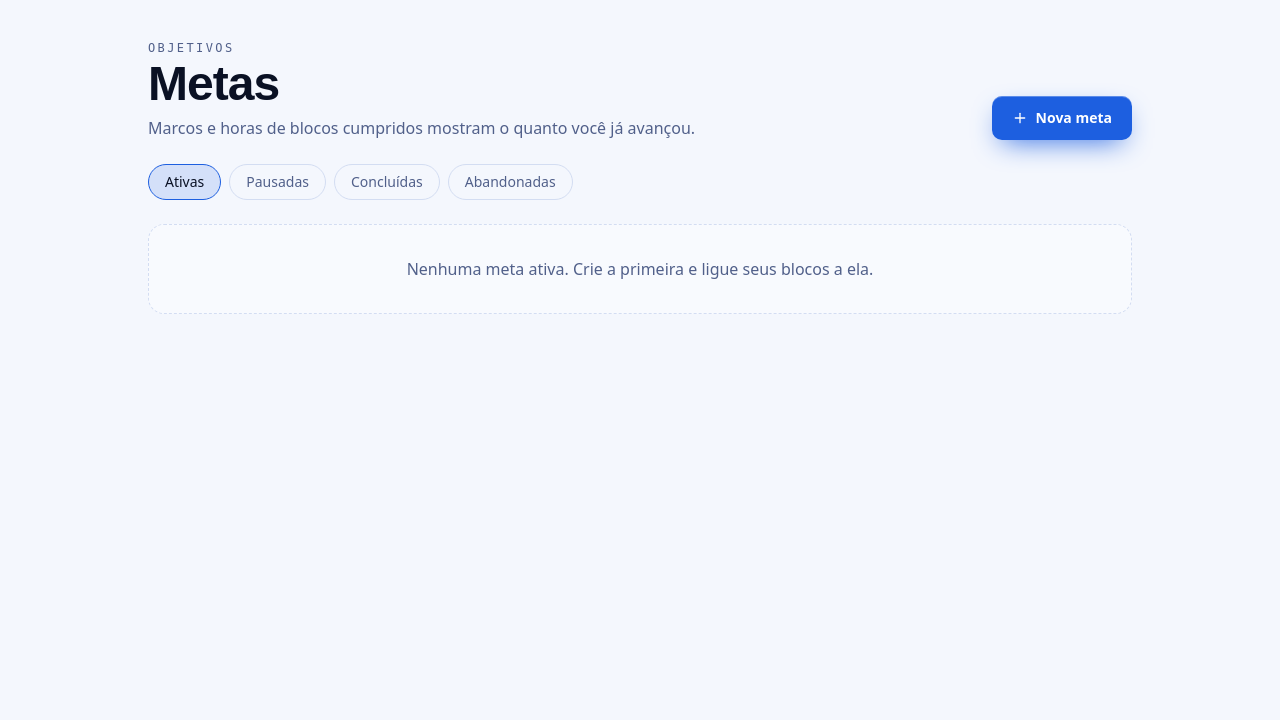
Test: GoalsPage › criar meta › valor-alvo zero é recusado no formulário
The width and height of the screenshot is (1280, 720).
Expected: the text "Nenhuma meta ativa" is shown, [407,258,873,280]
Click the button "Nova meta": (1062, 118) [992,96,1132,140]
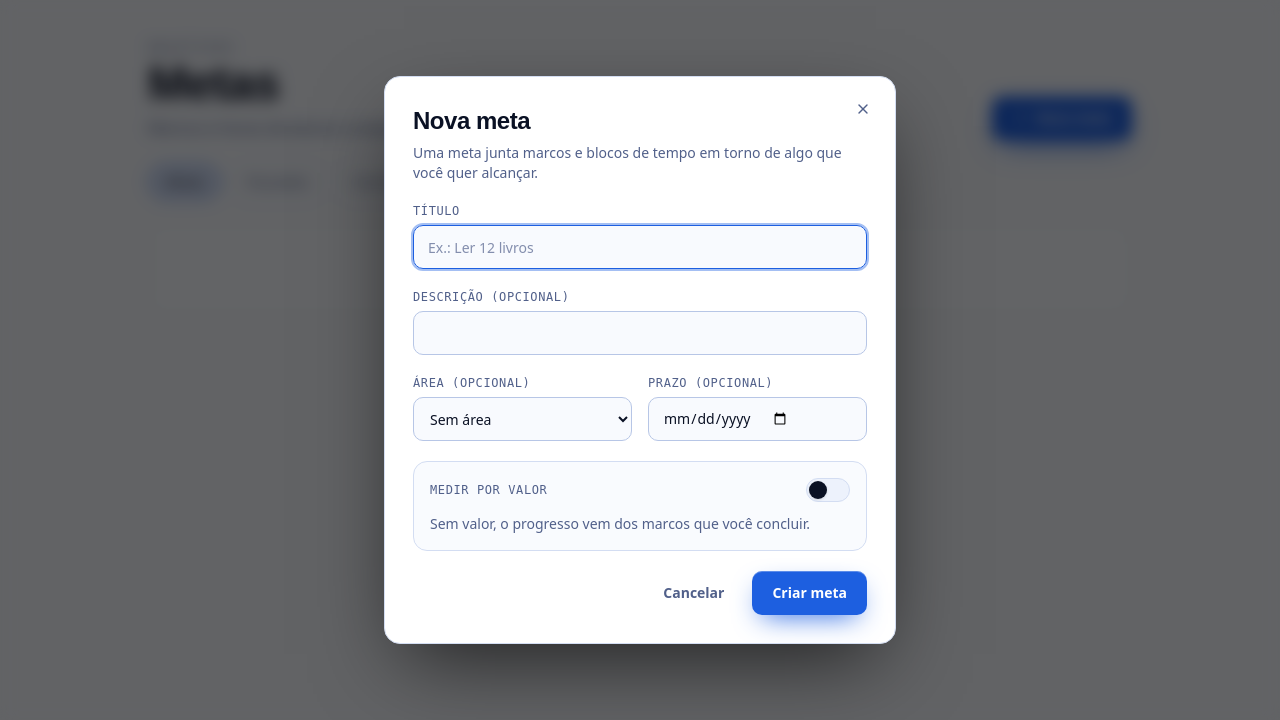
In the field labelled "Título": (640, 247) [413,225,867,269], type "Meta"
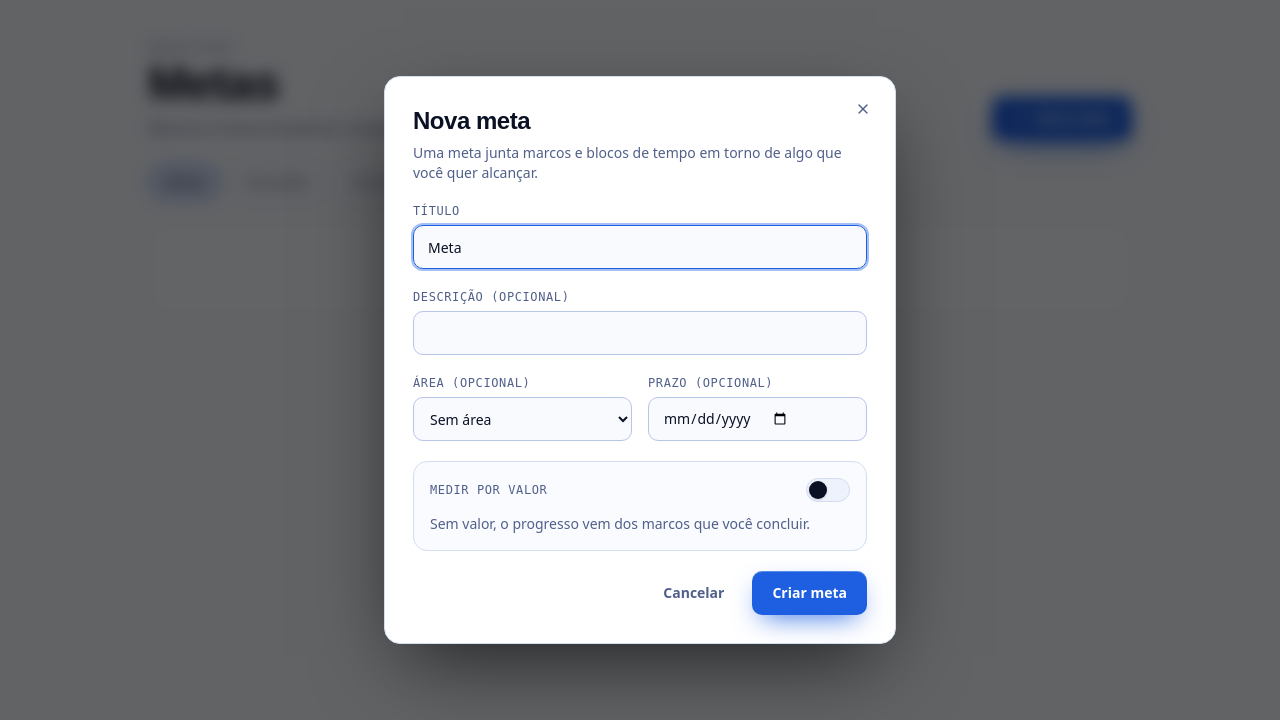
Click the switch named "Medir por valor": (828, 490) [806,478,850,502]
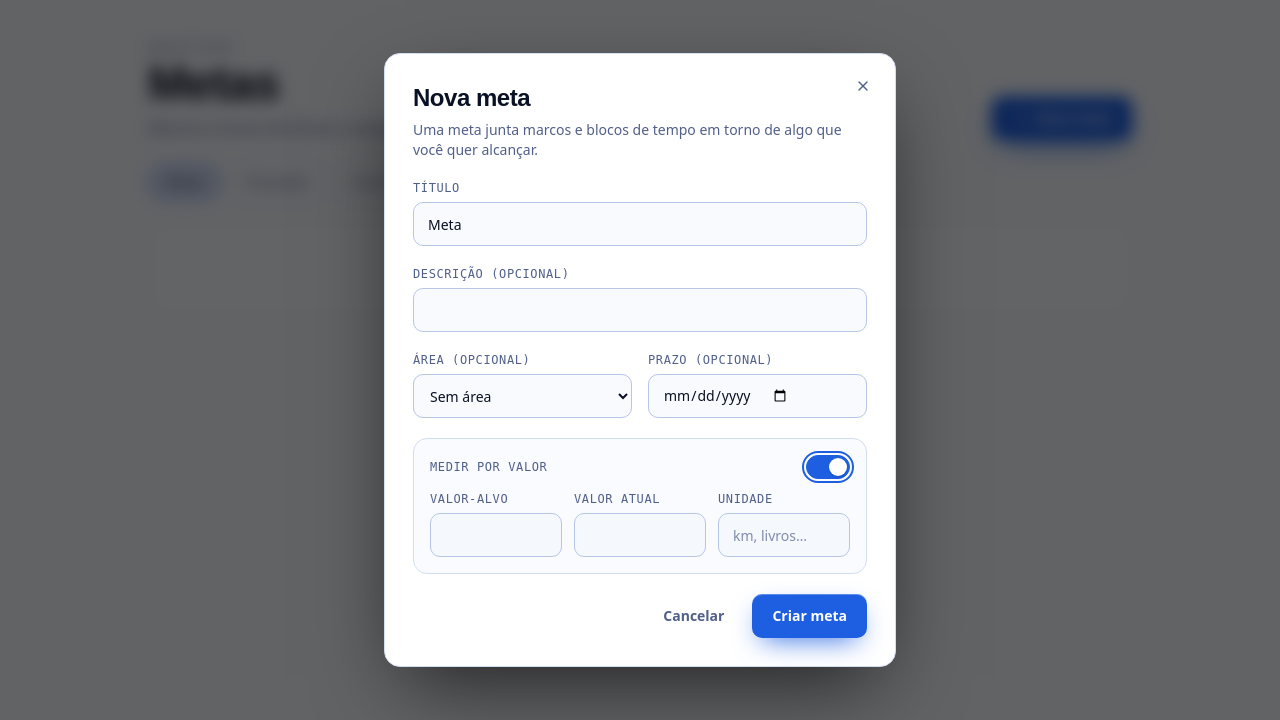
In the number field labelled "Valor-alvo": (496, 535) [430,513,562,557], type "0"
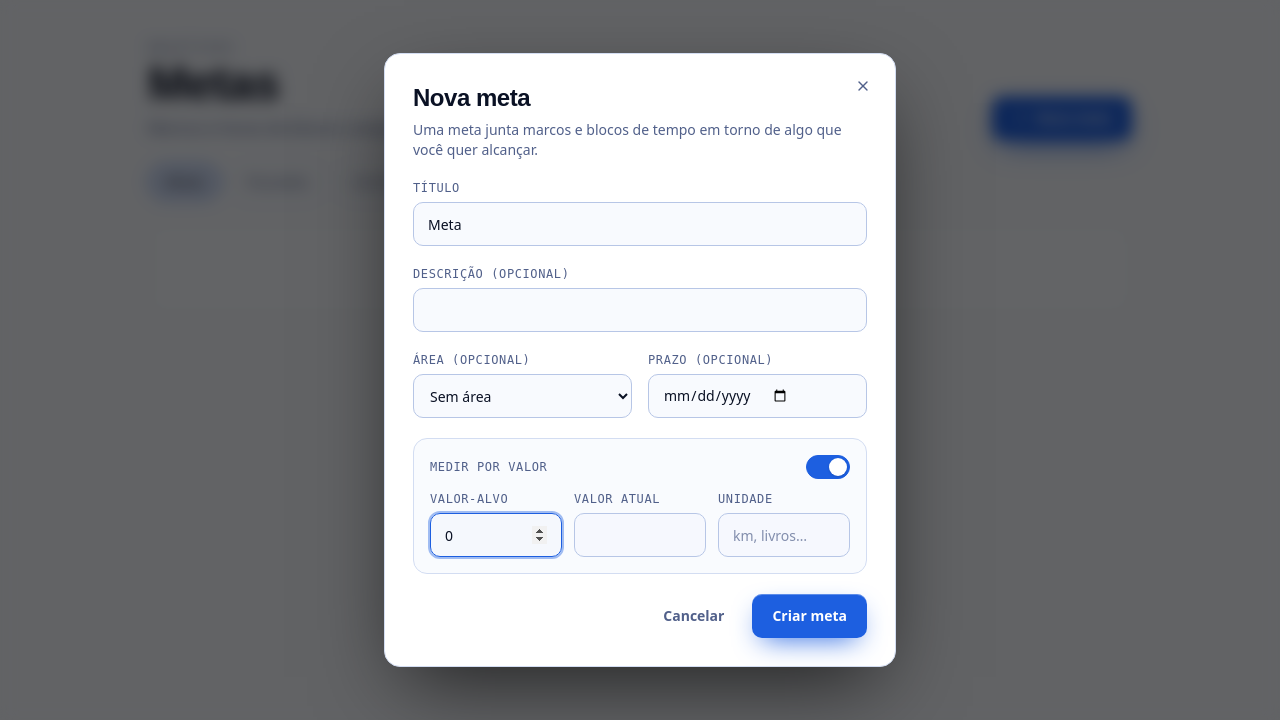
Click the button "Criar meta": (810, 616) [752,594,867,638]
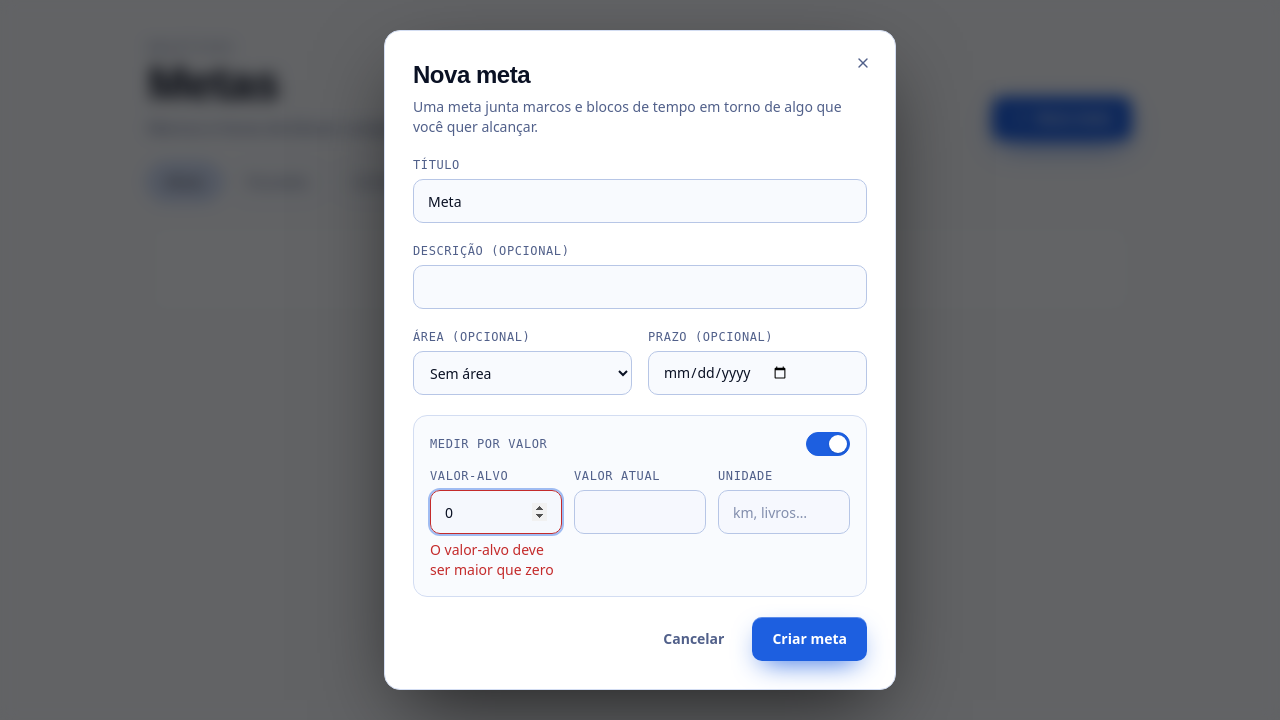
Expected: the text "O valor-alvo deve ser maior que zero" is shown, [430,540,562,580]
